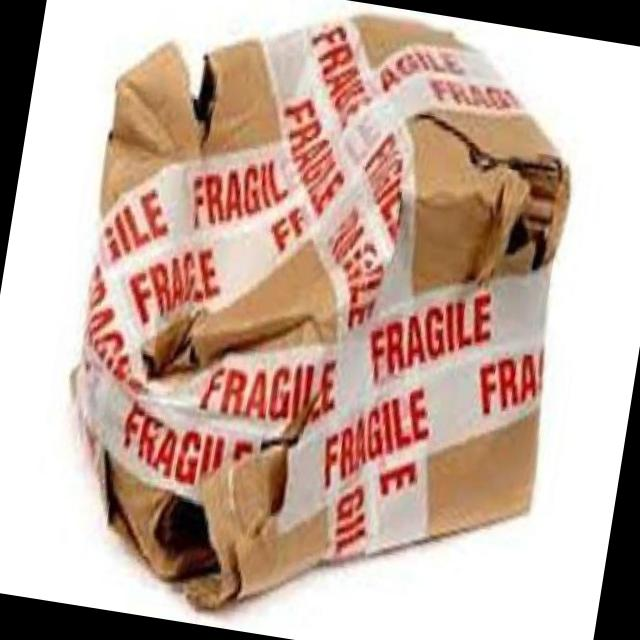box: (64, 9, 572, 610)
crushed: (120, 191, 294, 397)
opened: (428, 121, 570, 275), (138, 459, 273, 608), (153, 32, 230, 152)
